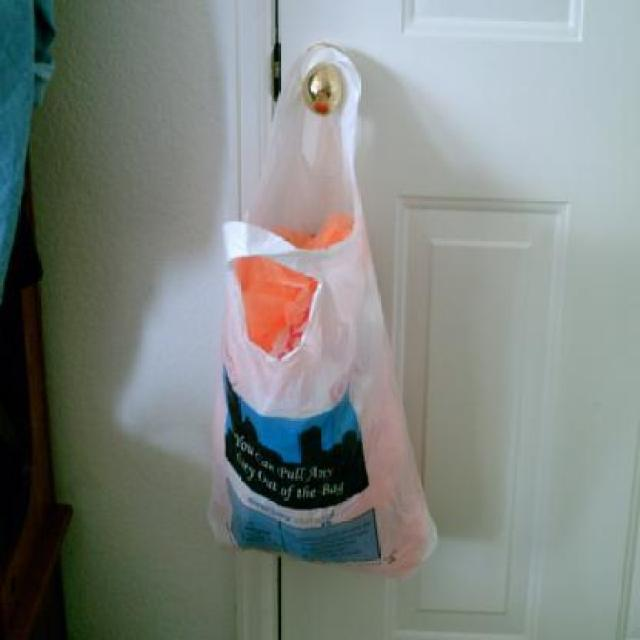plastic bag: (203, 42, 439, 580)
